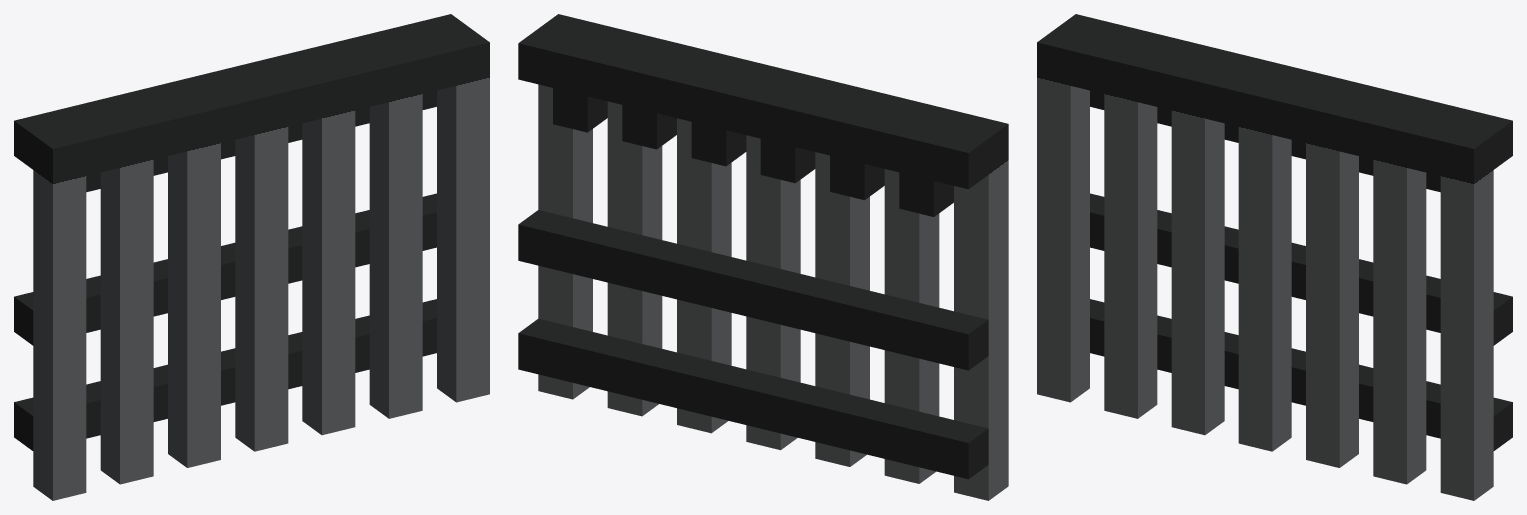
File: gate7X5.obj.dae
The picture shows the model from 3 angles, left to right: view 1: azimuth 30°, elevation 25°; view 2: azimuth 150°, elevation 25°; view 3: azimuth 330°, elevation 25°; orthographic projection. The views are drawn at different scales.
Visible parts, largest first — view 1: gate7X5.obj; view 2: gate7X5.obj; view 3: gate7X5.obj.
Part boxes in pixels (box(x1,y1,x2,y2)): gate7X5.obj: box(14, 14, 489, 500); gate7X5.obj: box(518, 14, 1008, 500); gate7X5.obj: box(1037, 14, 1512, 500).
Size of the model in its own units: 13 by 10 by 2.
Materials: 1 (1 with a texture image).
